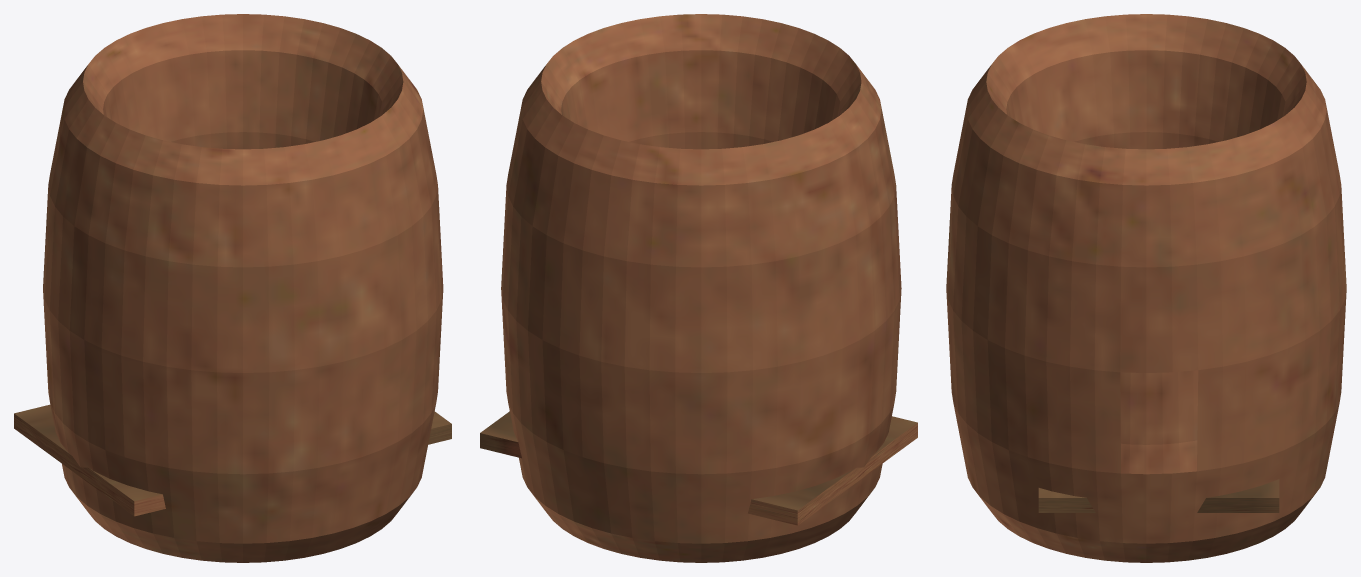
File: forbidden-temple.glb
3 views of the same model, side by side, from view 1: azimuth 30°, elevation 25°; view 2: azimuth 150°, elevation 25°; view 3: azimuth 270°, elevation 25° (orthographic).
Parts seen in each view (by area): view 1: Walls, Floor; view 2: Walls, Floor; view 3: Walls, Floor.
Part boxes in pixels (bbox=[...]): Walls: bbox=[43, 14, 443, 562]; Floor: bbox=[14, 404, 451, 516]; Walls: bbox=[501, 14, 901, 562]; Floor: bbox=[480, 411, 917, 525]; Walls: bbox=[946, 14, 1346, 562]; Floor: bbox=[1038, 479, 1279, 512].
Size of the model in its own units: 47.9 by 54.59 by 47.9.
Materials: 2 (2 with a texture image).
